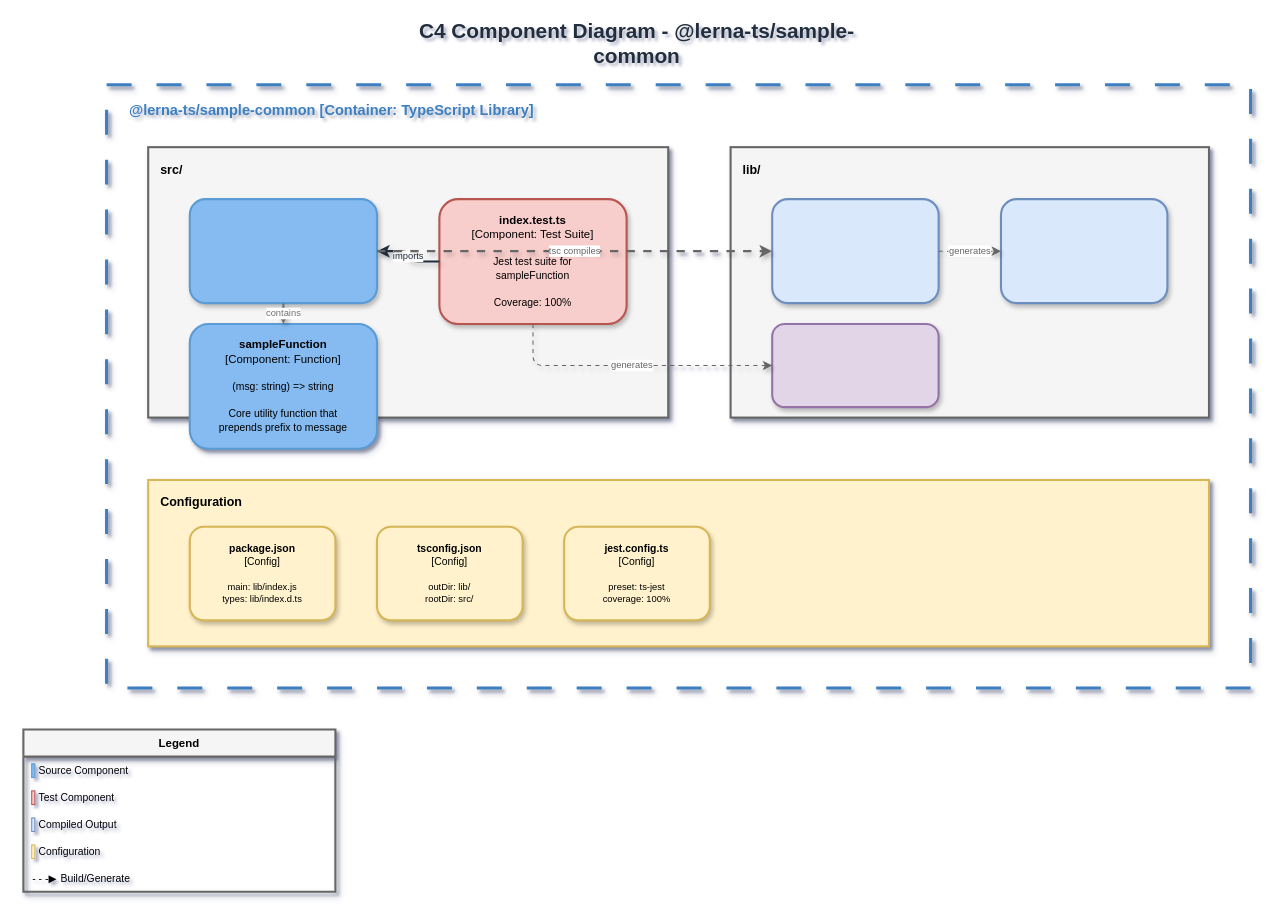
Image size: 1282x924. Some labels were removed from this diagram. Here are the shapes that lost their labels. From the top down, the centre of each, then its label:
the point at 284,252: index.ts [Component: Entry Point] Main module that exports all public functions
the point at 855,252: index.js [Component: Compiled JS] CommonJS module output ES2022 target
the point at 1084,252: index.d.ts [Component: Type Defs] TypeScript declaration file for type checking
the point at 855,366: coverage/ [Component: Reports] LCOV coverage reports
